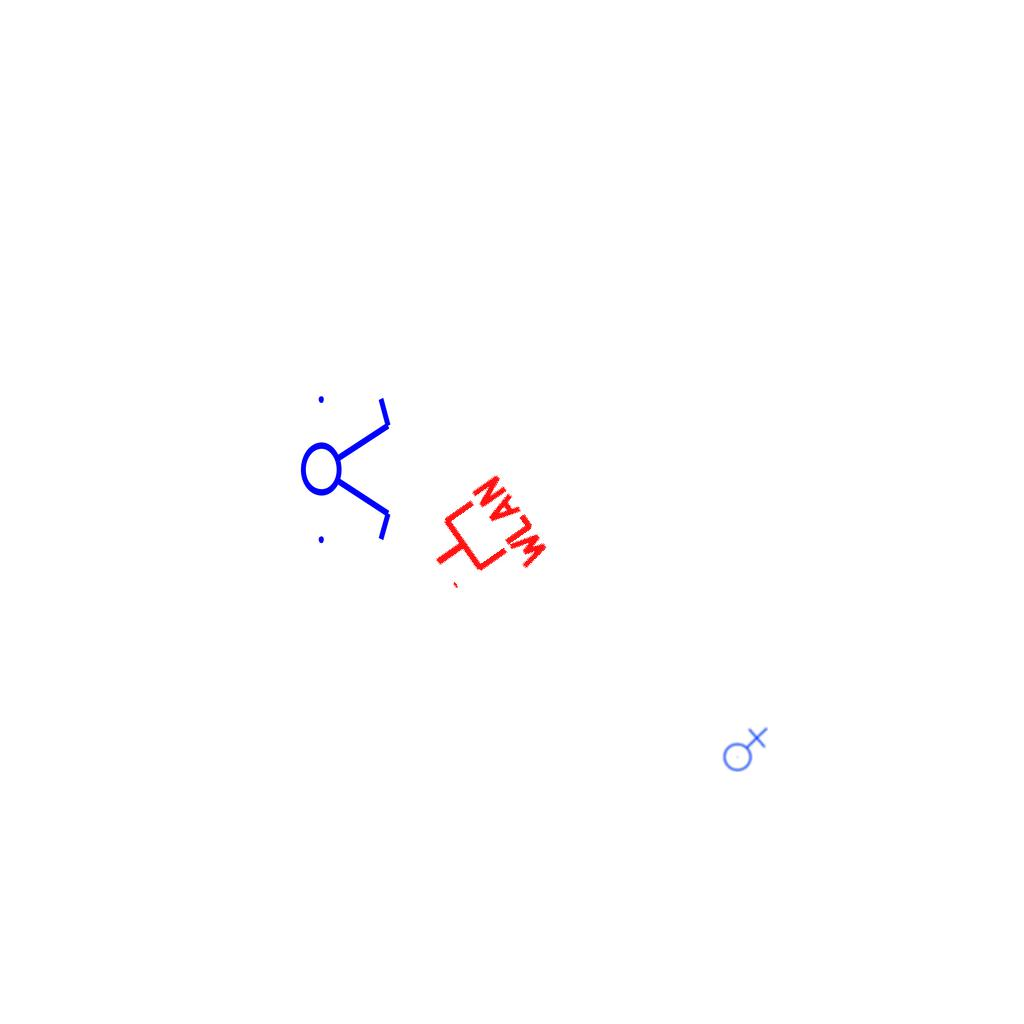Elektroanschluss_allgemein_230V_Geraeteanschlussdose_230V: (719, 725, 768, 772)
Serienschalter: (299, 384, 395, 552)
WLAN: (409, 469, 556, 615)
